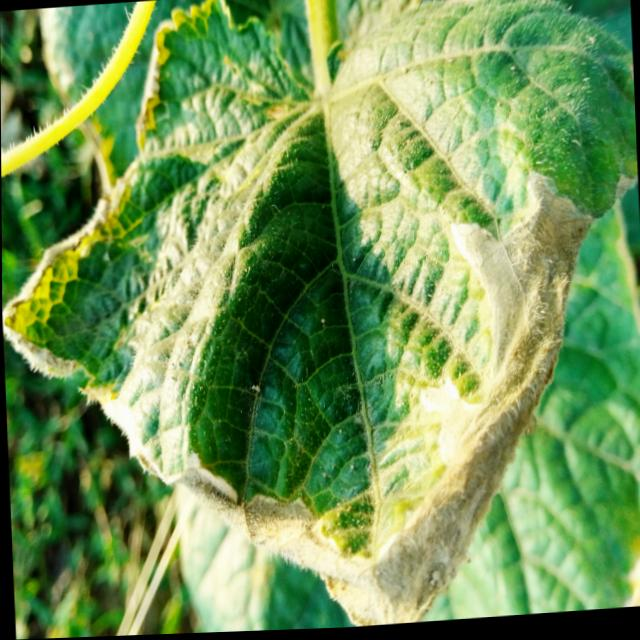Gummy-Stem-Blight: (156, 169, 595, 626)
